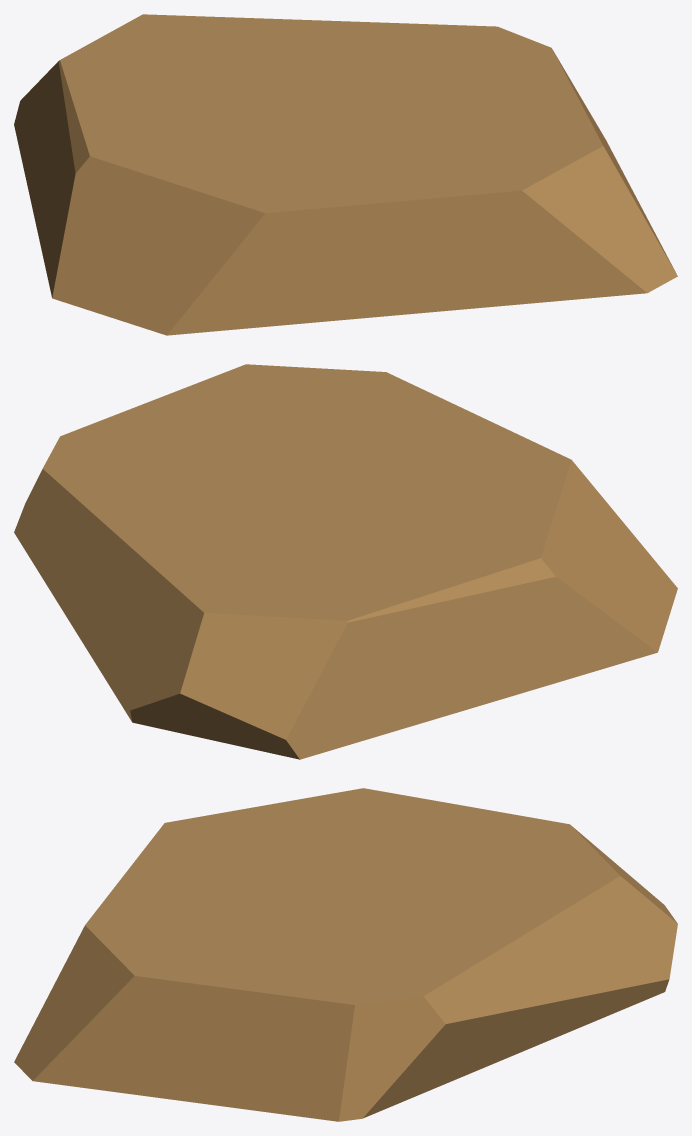
The model's file is roca06.fbx.
The picture shows the model from 3 angles, top to bottom: view 1: azimuth 30°, elevation 25°; view 2: azimuth 150°, elevation 25°; view 3: azimuth 270°, elevation 25°; orthographic projection. The views are drawn at different scales.
Parts seen in each view (by area): view 1: small_rock_08_Cylinder_008; view 2: small_rock_08_Cylinder_008; view 3: small_rock_08_Cylinder_008.
Boxes of the visible parts, x1,y1,x2,y2 form: small_rock_08_Cylinder_008: (14, 14, 677, 335); small_rock_08_Cylinder_008: (14, 364, 677, 759); small_rock_08_Cylinder_008: (14, 788, 677, 1121).
Size of the model in its own units: 146 by 23.63 by 150.
